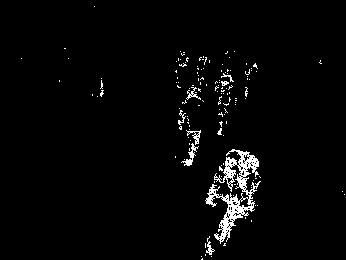person: (180, 86, 205, 166), (214, 72, 237, 139)
